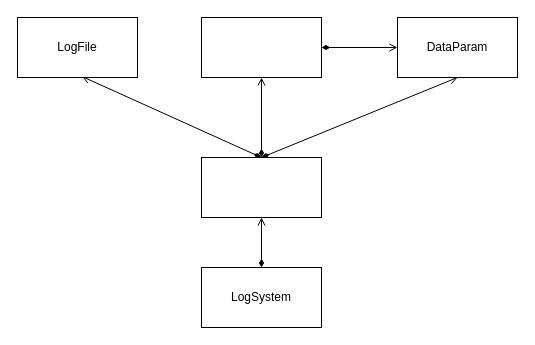
The diagram is 535 pixels wide and 345 high, and some of its shapes have lost their labels. Each missing label, with the centre of its shape:
"LogController" belongs at [261,187].
"LogStream（功能上需要和 DataParam 相似）" belongs at [261,47].
